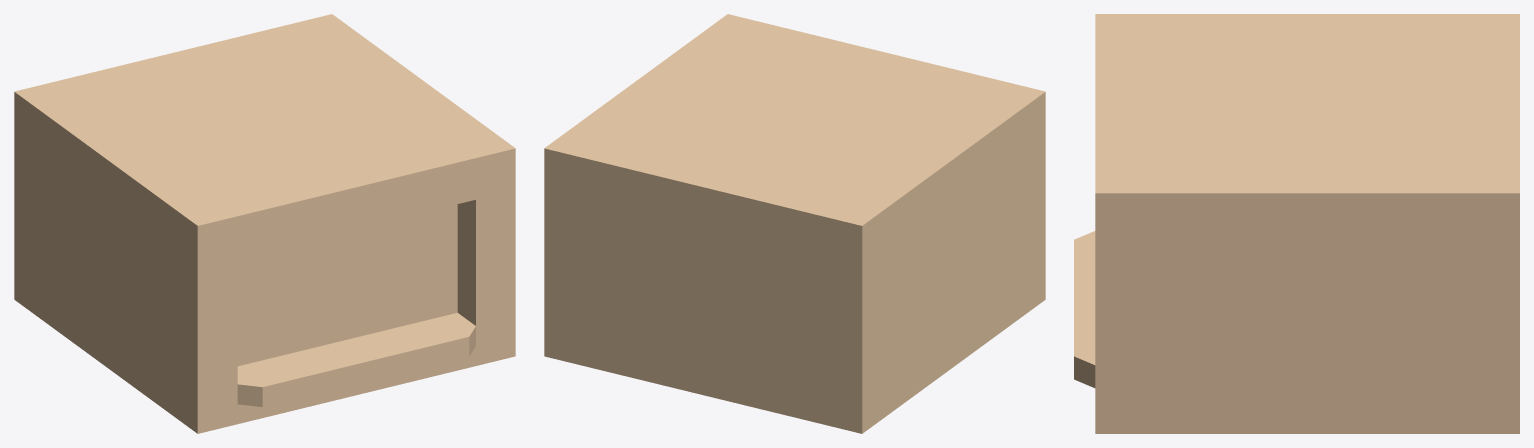
File: building-window-wide-sill.obj
The picture shows the model from 3 angles, left to right: view 1: azimuth 30°, elevation 25°; view 2: azimuth 150°, elevation 25°; view 3: azimuth 270°, elevation 25°; orthographic projection. The views are drawn at different scales.
Bounding box in the file's own units: 1 × 0.625 × 1.05.
